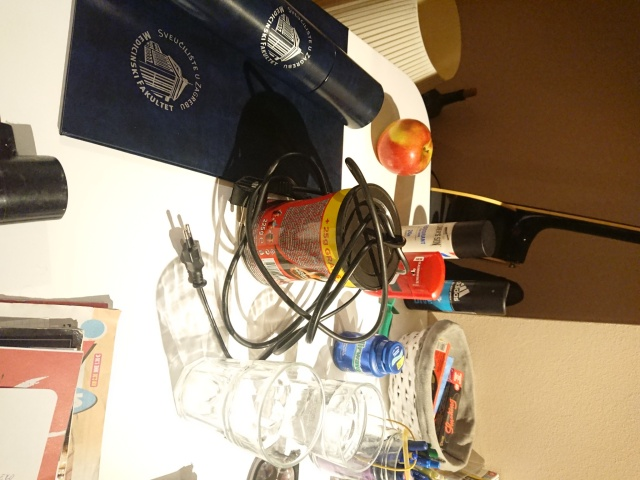Nescafe Classic 225g: (235, 181, 404, 294)
